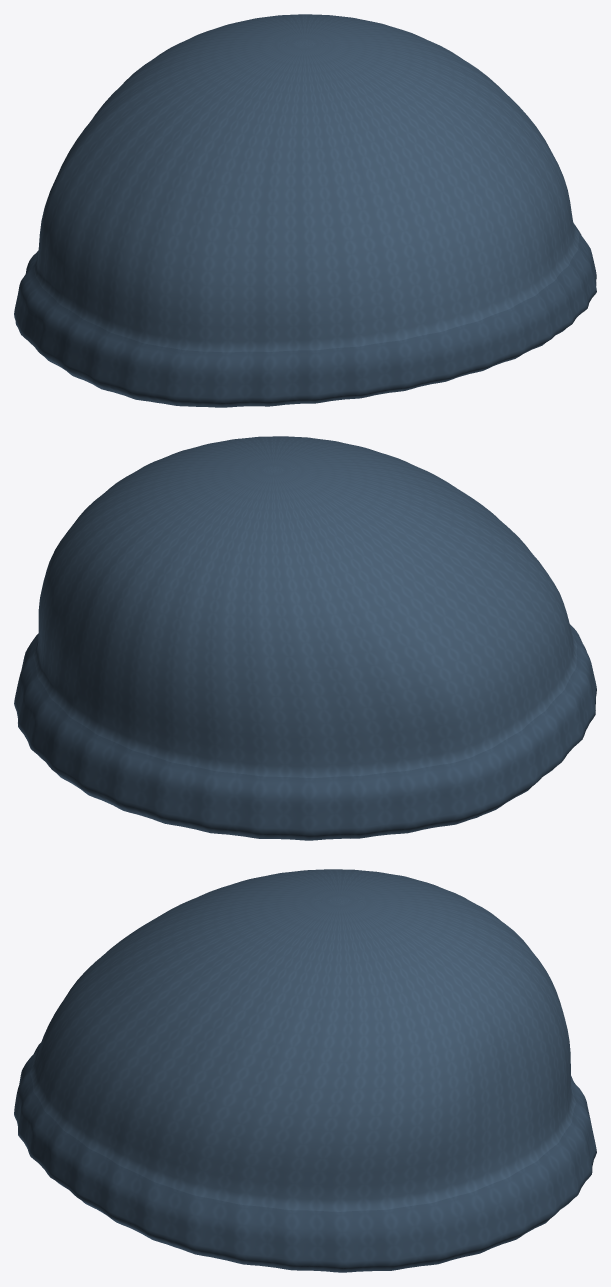
The model's file is beanie-feminine-bob.glb.
The picture shows the model from 3 angles, top to bottom: view 1: azimuth 30°, elevation 25°; view 2: azimuth 150°, elevation 25°; view 3: azimuth 270°, elevation 25°; orthographic projection. The views are drawn at different scales.
Visible parts, largest first — view 1: Beanie / fitted knit; view 2: Beanie / fitted knit; view 3: Beanie / fitted knit.
Boxes of the visible parts, box(x1,y1,x2,y2) form: Beanie / fitted knit: box(14, 14, 596, 407); Beanie / fitted knit: box(14, 436, 596, 840); Beanie / fitted knit: box(14, 869, 596, 1272).
Size of the model in its own units: 0.8115 by 0.4059 by 0.7978.
Materials: 2 (2 with a texture image).
